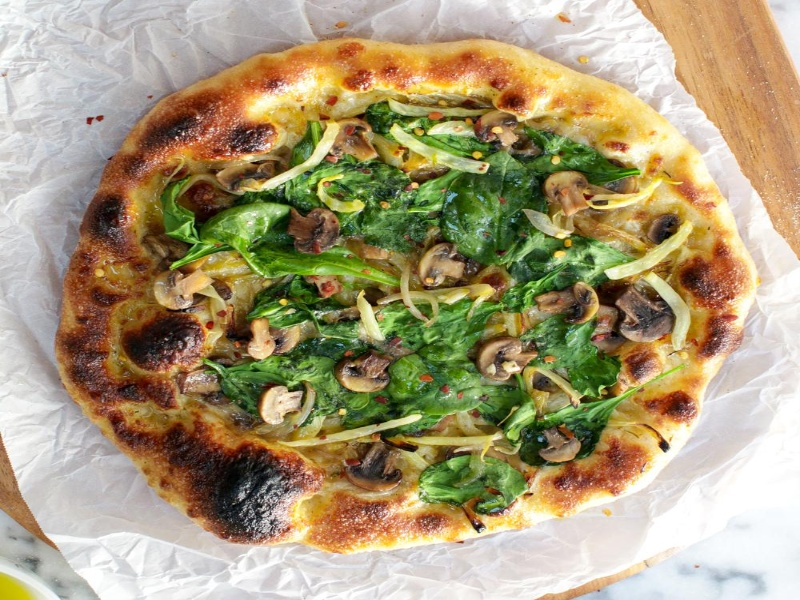champignon: (611, 280, 683, 351), (471, 330, 547, 385), (143, 264, 223, 315), (344, 435, 405, 498), (327, 347, 395, 399), (331, 116, 392, 172), (280, 206, 345, 258), (534, 279, 605, 326), (526, 420, 591, 469), (251, 381, 312, 430), (417, 241, 474, 292), (544, 168, 595, 216), (469, 109, 524, 150)
